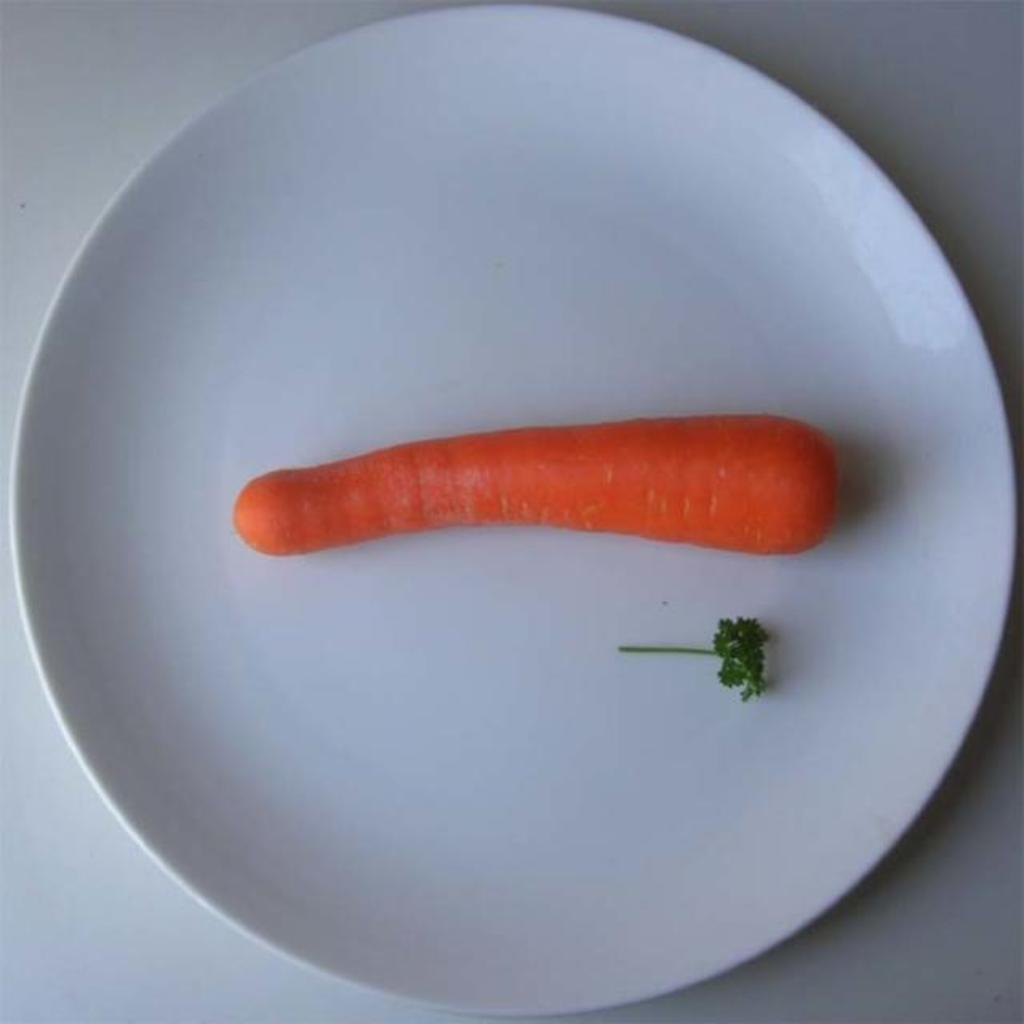carrot: (234, 414, 836, 555)
